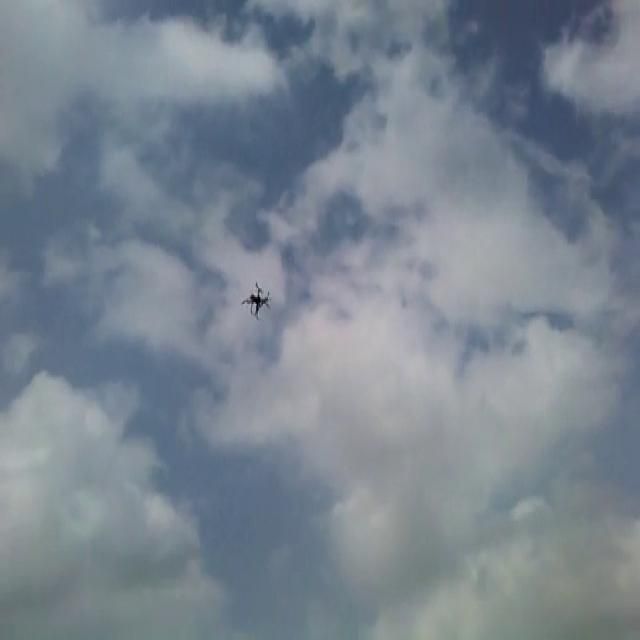drone: (240, 279, 272, 318)
